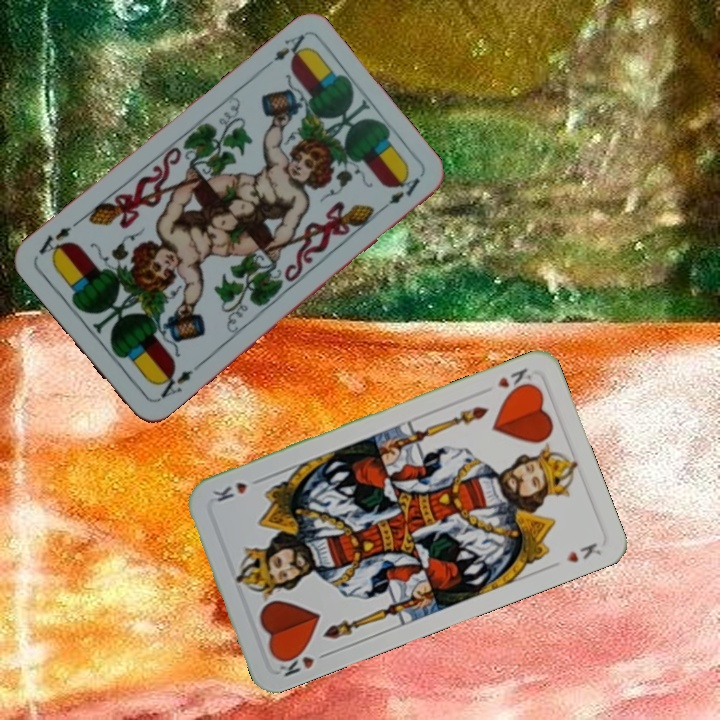EA: (257, 30, 311, 73), (152, 361, 202, 404)
HK: (273, 644, 332, 679), (493, 364, 538, 397)
